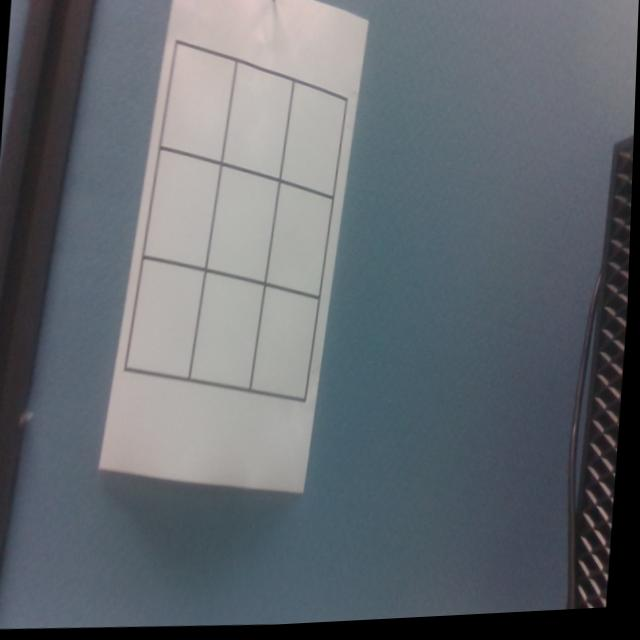null: (127, 257, 208, 387), (143, 149, 222, 278), (206, 164, 280, 289), (162, 43, 236, 167), (194, 272, 265, 396), (252, 285, 320, 408), (223, 63, 292, 183), (266, 183, 334, 304), (282, 83, 346, 202)
table: (121, 35, 356, 418)
